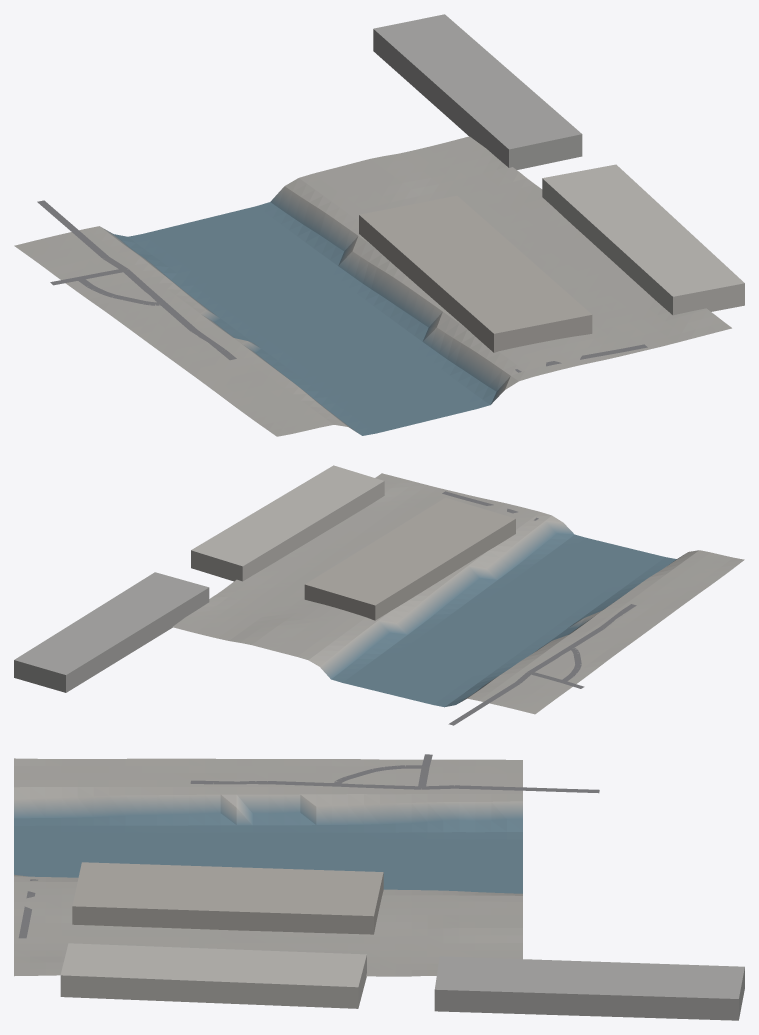
The model's file is tile_1_3.glb.
The picture shows the model from 3 angles, top to bottom: view 1: azimuth 30°, elevation 25°; view 2: azimuth 150°, elevation 25°; view 3: azimuth 270°, elevation 25°; orthographic projection. The views are drawn at different scales.
Visible parts, largest first — view 1: terrain, buildings, roads; view 2: terrain, buildings, roads; view 3: terrain, buildings, roads.
Boxes of the visible parts, left/top/right/bottom form: terrain: left=14, top=136, right=731, bottom=436; buildings: left=359, top=14, right=744, bottom=352; roads: left=37, top=200, right=647, bottom=372; terrain: left=172, top=473, right=744, bottom=714; buildings: left=14, top=465, right=515, bottom=692; roads: left=442, top=491, right=636, bottom=725; terrain: left=14, top=758, right=522, bottom=976; buildings: left=60, top=862, right=744, bottom=1020; roads: left=18, top=754, right=599, bottom=938.
Bounding box in the file's own units: 311 × 19.95 × 368.
